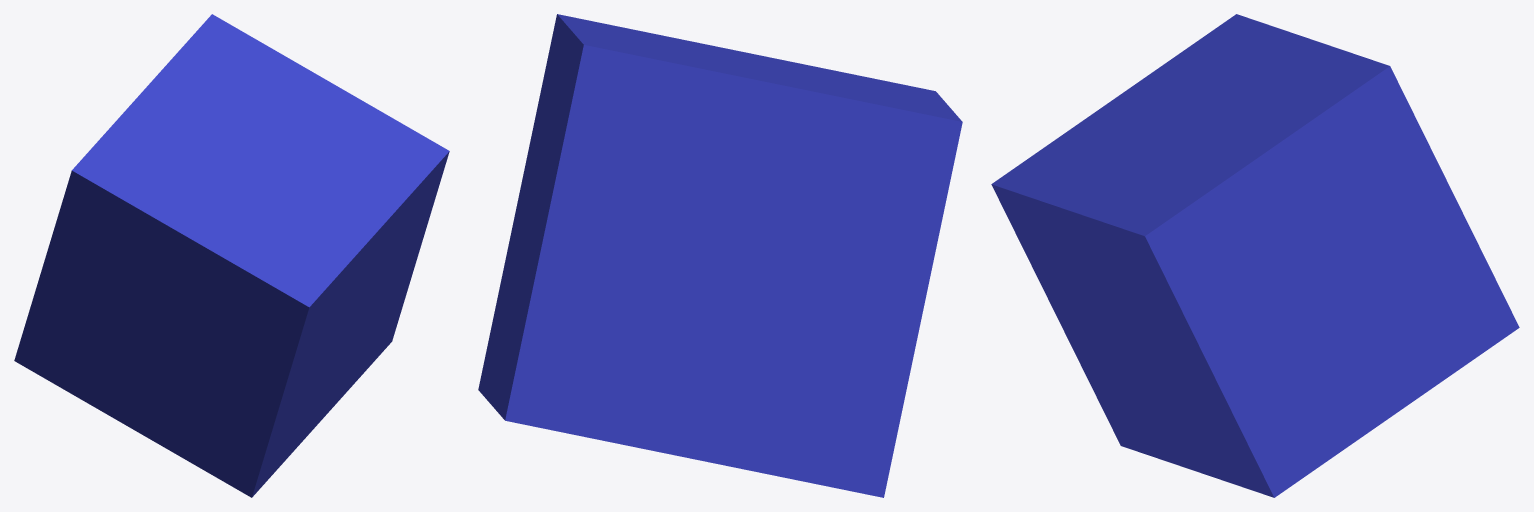
The picture shows the model from 3 angles, left to right: view 1: azimuth 30°, elevation 25°; view 2: azimuth 150°, elevation 25°; view 3: azimuth 270°, elevation 25°; orthographic projection. The views are drawn at different scales.
Visible parts, largest first — view 1: node_id5; view 2: node_id5; view 3: node_id5.
Part boxes in pixels (<box>): node_id5: <box>14,14,449,497</box>; node_id5: <box>478,14,962,497</box>; node_id5: <box>991,14,1519,497</box>.
Bounding box in the file's own units: 0.7029 × 0.7505 × 0.848.
